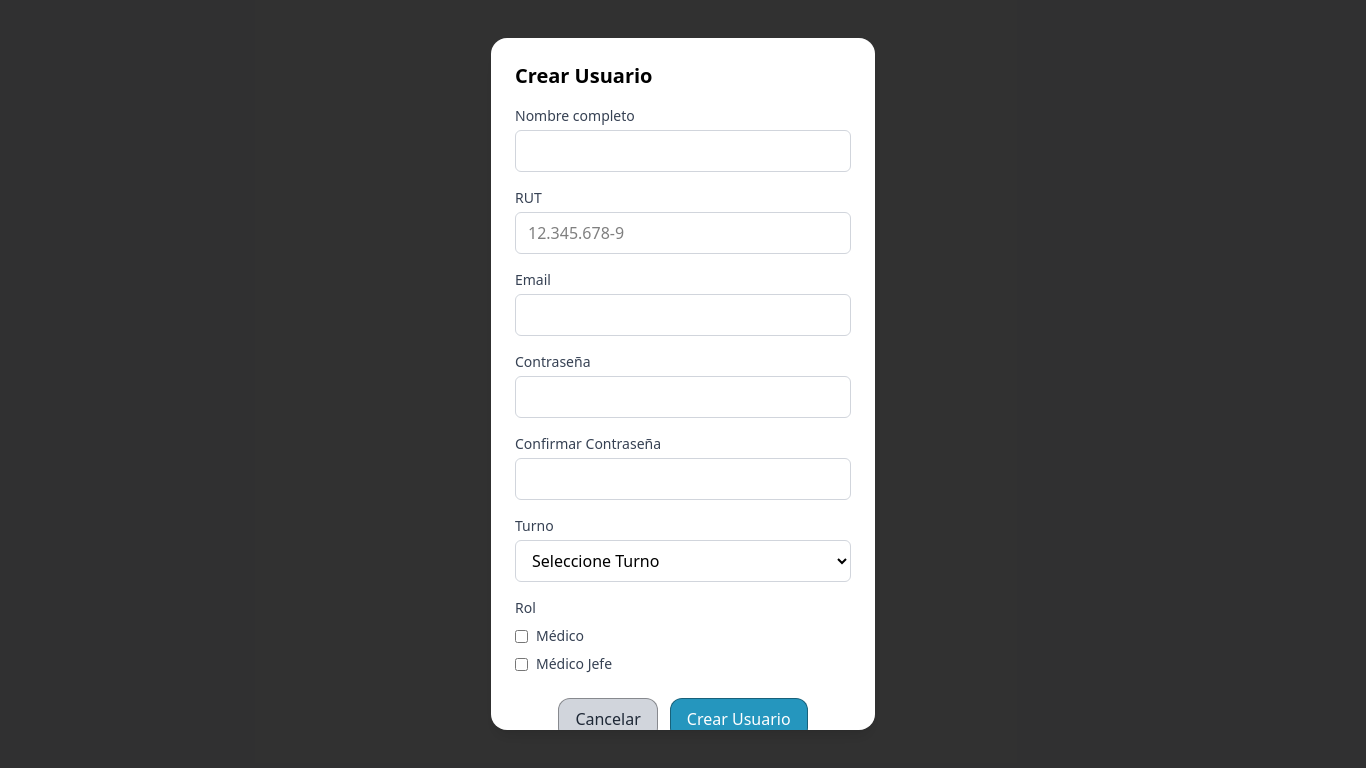
Test: CreateUserModal - Happy Path › formats RUT correctly on input
Type "123456789" into the field with placeholder "12.345.678-9" at [683, 233], box [515,212,851,254]
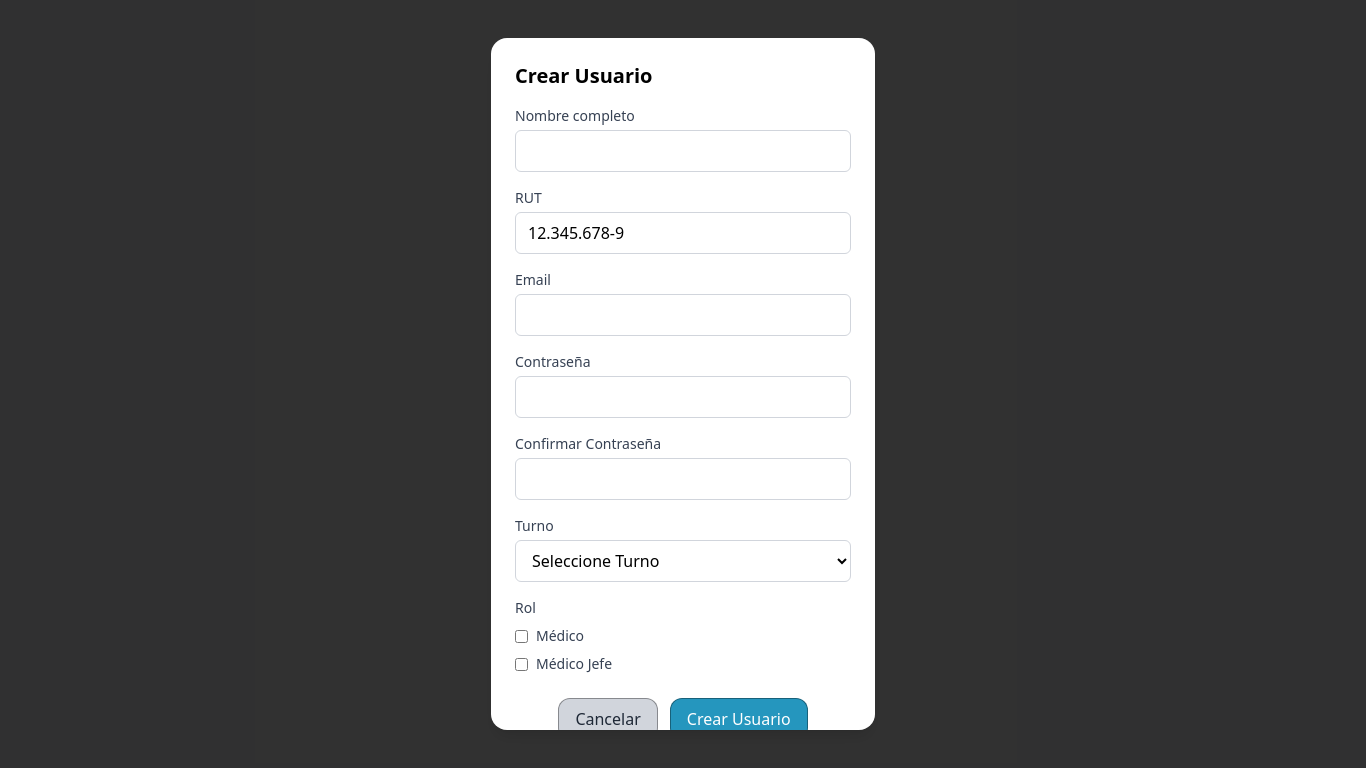
expect the field with placeholder "12.345.678-9" below "RUT" holds "12.345.678-9": met, box [515,212,851,254]
